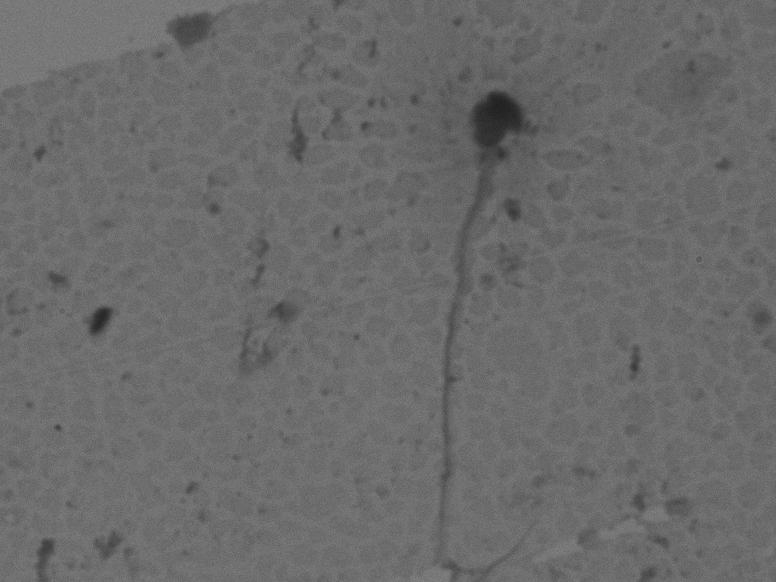Abnormal: (404, 78, 573, 567)
